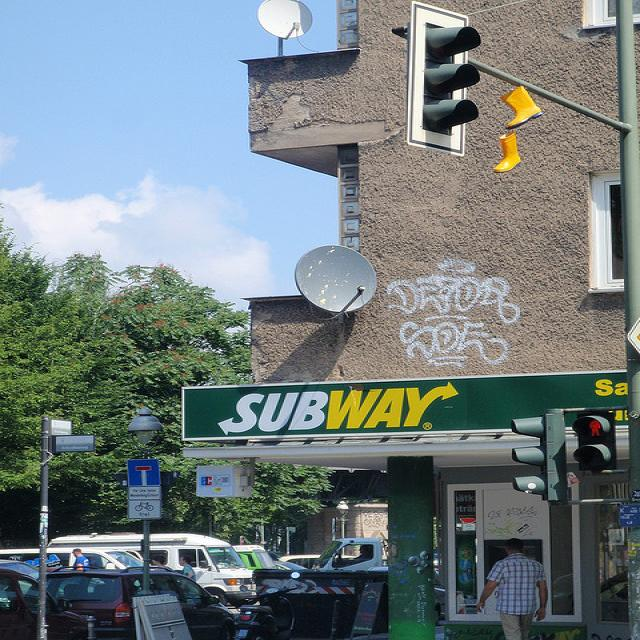motor: (227, 568, 310, 640)
